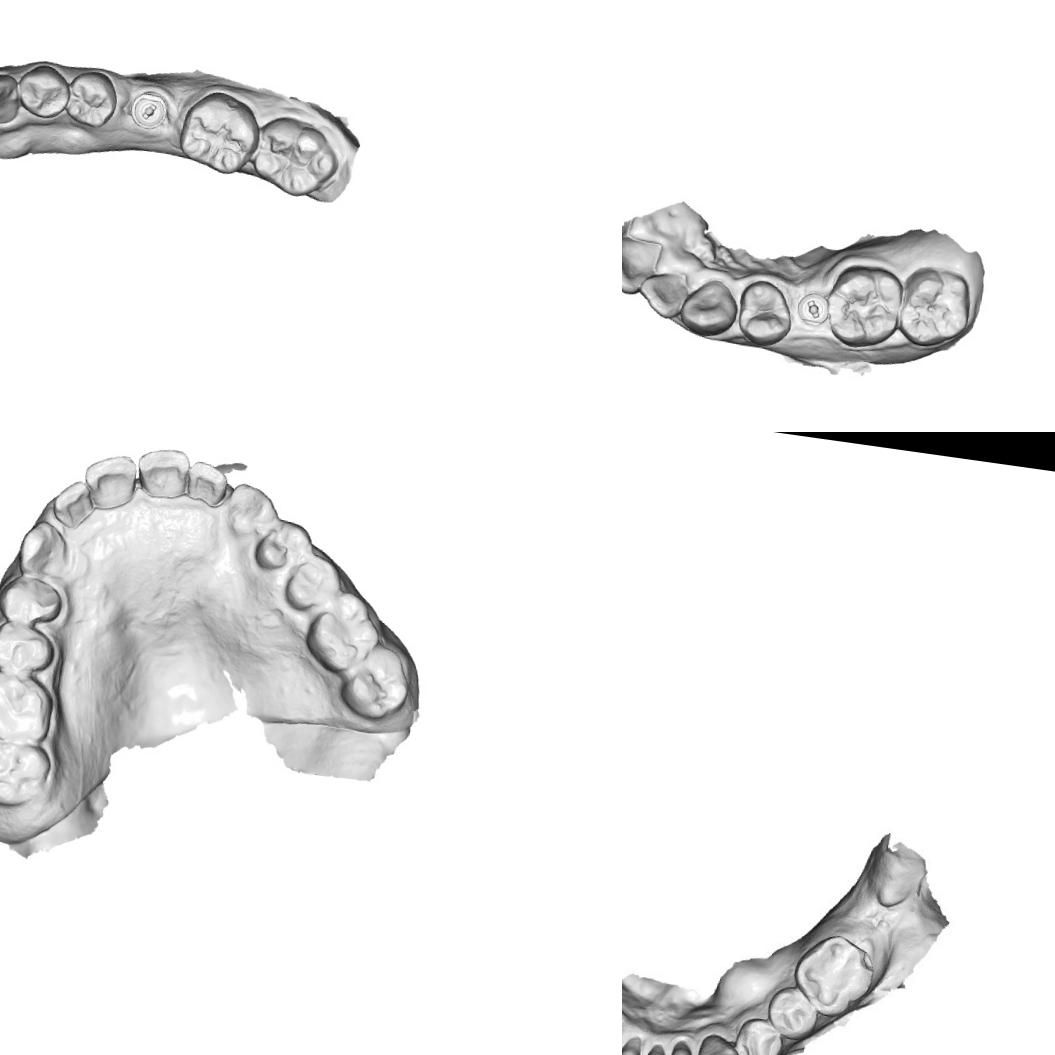canine: (676, 274, 739, 342), (12, 516, 74, 580), (224, 480, 282, 541), (0, 68, 24, 126), (692, 1032, 742, 1055)
implant_minus: (126, 86, 170, 132), (794, 288, 834, 330)
incisor: (77, 448, 141, 516), (133, 442, 194, 504), (633, 268, 692, 322), (622, 229, 661, 298), (180, 456, 231, 508), (48, 476, 99, 528)
molar: (788, 928, 882, 1024), (248, 111, 344, 202), (298, 584, 389, 680), (174, 86, 266, 178), (892, 260, 978, 355), (822, 258, 906, 354), (333, 637, 418, 727), (0, 667, 61, 747), (0, 733, 57, 813)
premolar: (732, 276, 798, 350), (248, 514, 316, 579), (0, 570, 67, 633), (13, 60, 74, 121), (62, 67, 121, 130), (280, 550, 338, 614), (763, 982, 822, 1044), (0, 619, 55, 682), (730, 1012, 785, 1055)
